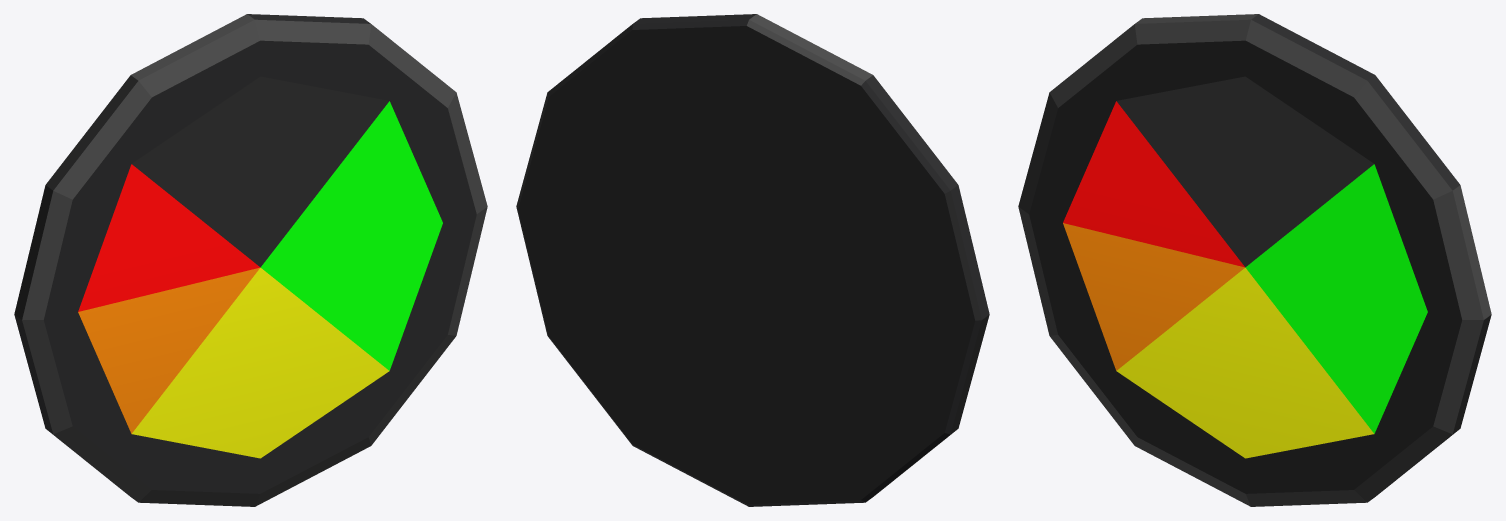
The model's file is CountdownTimerSciFiBase.glb.
3 views of the same model, side by side, from view 1: azimuth 30°, elevation 25°; view 2: azimuth 150°, elevation 25°; view 3: azimuth 330°, elevation 25° (orthographic).
Visible parts, largest first — view 1: SciFiTimerBase; view 2: SciFiTimerBase; view 3: SciFiTimerBase.
Boxes of the visible parts, bbox=[...] form: SciFiTimerBase: bbox=[14, 14, 487, 506]; SciFiTimerBase: bbox=[516, 14, 989, 506]; SciFiTimerBase: bbox=[1018, 14, 1491, 506].
Size of what is drawn, in the model's own units: 2.45 by 2.45 by 0.145.
Materials: 2 (2 with a texture image).
